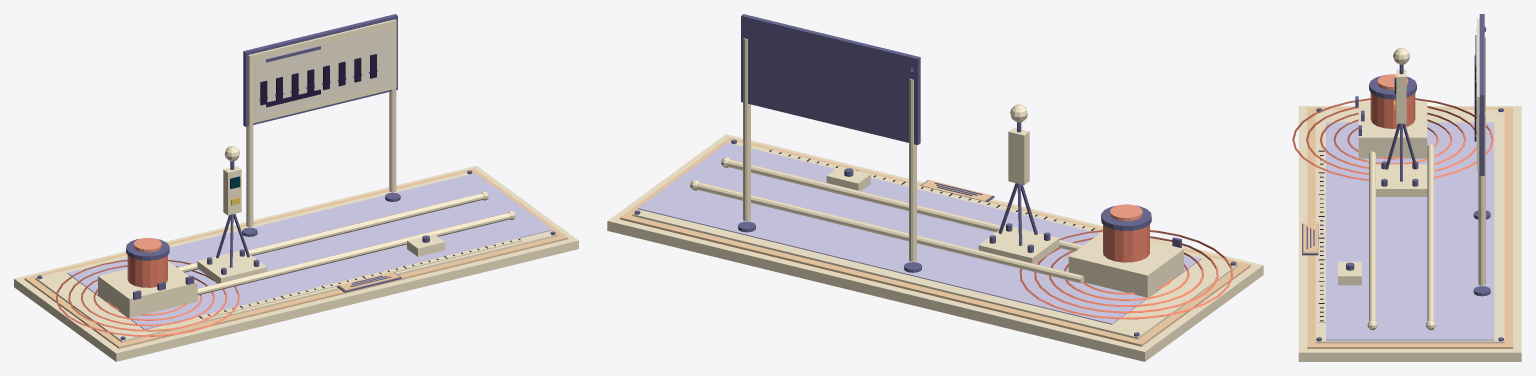
Rendered from son.glb.
3 renders of one model, left to right at view 1: azimuth 30°, elevation 25°; view 2: azimuth 150°, elevation 25°; view 3: azimuth 270°, elevation 25°, orthographic. The views are drawn at different scales.
Parts seen in each view (by area): view 1: son_cream, son_pale, son_glass, son_peach, son_steel, anim_slide_chariot, anim_pulse_anneaux, son_coral, son_dark; view 2: son_cream, son_pale, son_steel, son_peach, anim_slide_chariot, anim_pulse_anneaux, son_coral; view 3: son_pale, son_cream, son_peach, anim_slide_chariot, anim_pulse_anneaux, son_steel, son_coral, son_dark, son_salmon.
Boxes of the visible parts, box(x1,y1,x2,y2) form: son_cream: box(14, 19, 578, 361); son_pale: box(67, 173, 552, 329); son_glass: box(255, 27, 391, 117); son_peach: box(24, 168, 568, 348); son_steel: box(37, 14, 555, 339); anim_slide_chariot: box(197, 146, 267, 283); anim_pulse_anneaux: box(56, 260, 239, 336); son_coral: box(127, 255, 167, 287); son_dark: box(199, 89, 520, 318); son_cream: box(607, 38, 1263, 361); son_pale: box(638, 142, 1201, 324); son_steel: box(634, 14, 1236, 336); son_peach: box(620, 137, 1250, 346); anim_slide_chariot: box(978, 104, 1059, 263); anim_pulse_anneaux: box(1019, 230, 1233, 319); son_coral: box(1103, 224, 1149, 262); son_pale: box(1326, 122, 1494, 340); son_cream: box(1298, 18, 1521, 361); son_peach: box(1303, 107, 1512, 348); anim_slide_chariot: box(1376, 48, 1427, 196); anim_pulse_anneaux: box(1292, 98, 1493, 180); son_steel: box(1302, 14, 1503, 341); son_coral: box(1370, 93, 1415, 128); son_dark: box(1318, 82, 1476, 321); son_salmon: box(1377, 74, 1408, 90).
Size of the model in its own units: 3.44 by 1.38 by 1.34.
